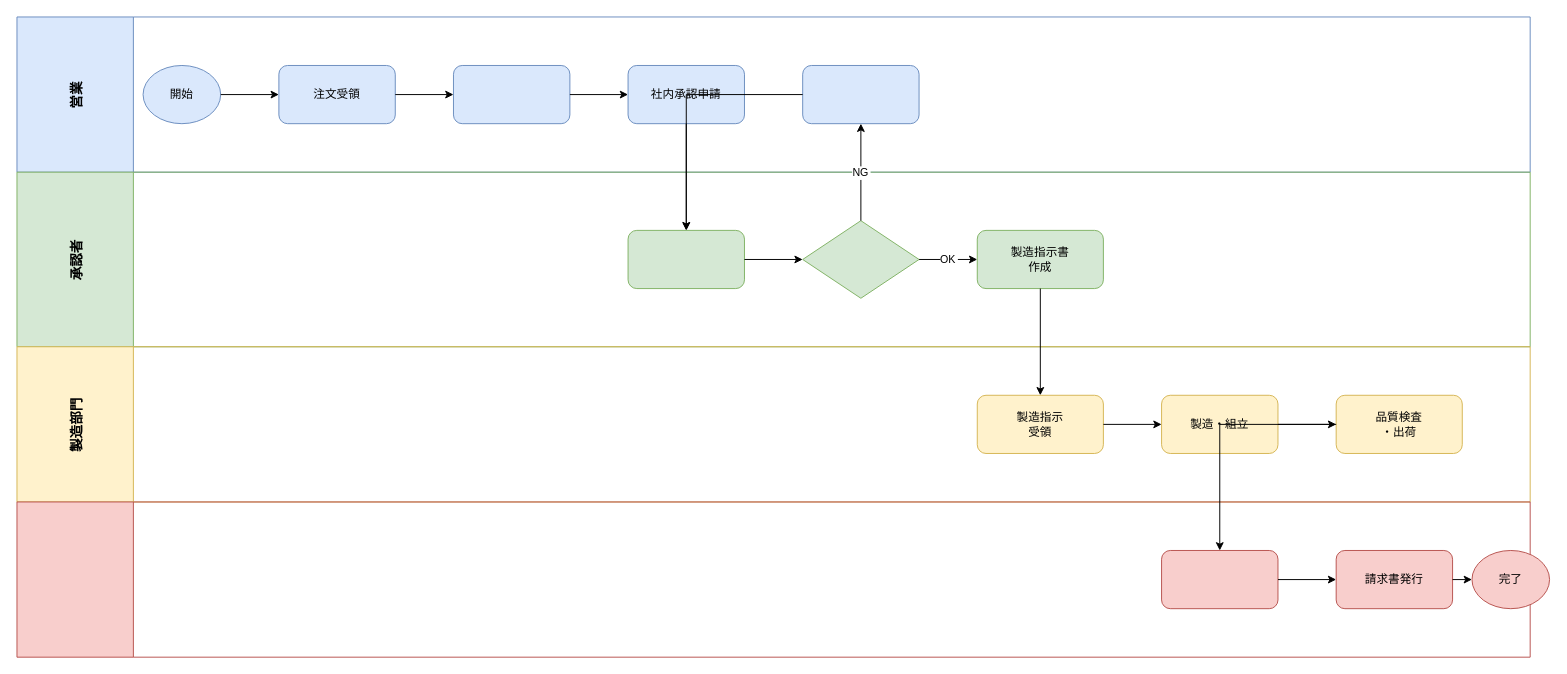
Image size: 1567x674. Some labels were removed from this diagram. The box of each missing label's shape, as (x1, y1, x2, y2) in pixels:
修正・再申請: (802, 65, 919, 124)
受注確認 (数量・納期): (453, 65, 570, 124)
承認判定: (802, 220, 919, 298)
承認審査: (627, 229, 744, 289)
経理部門: (16, 501, 1530, 657)
請求書作成: (1161, 550, 1278, 609)
